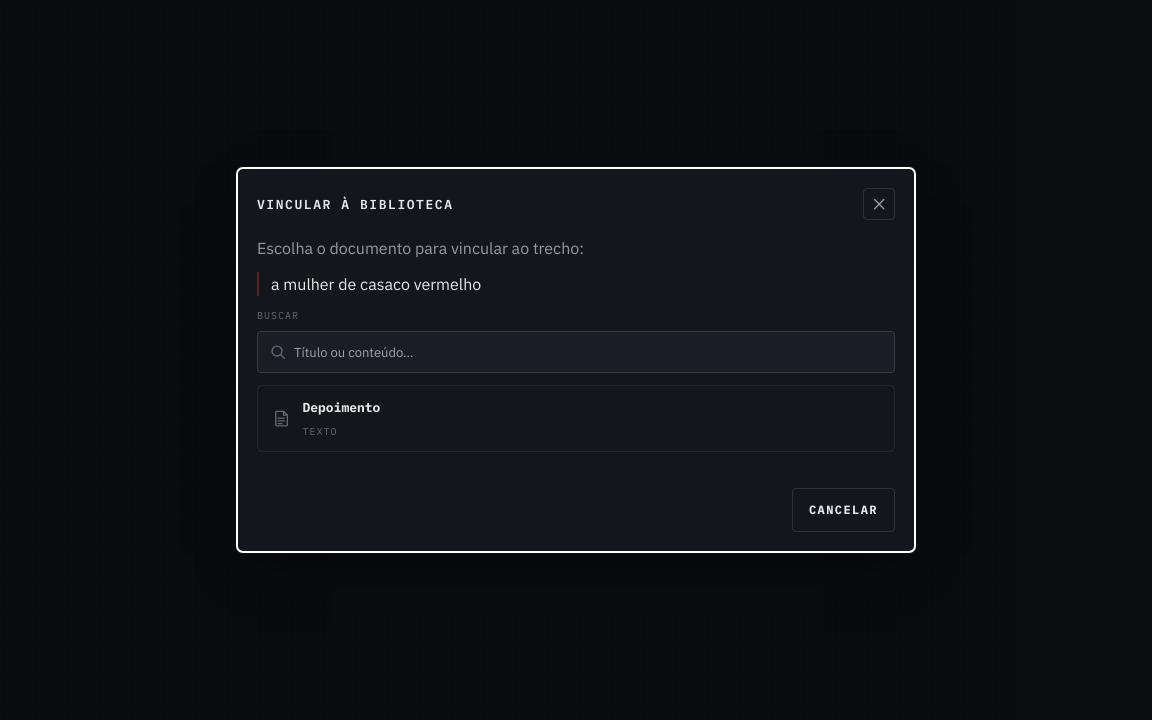
CadernoVinculoBiblioteca › seleção removida pela colaboração mantém texto e informa falha
Click the button "Depoimento Texto": (341, 408) x1=257 y1=385 x2=895 y2=452
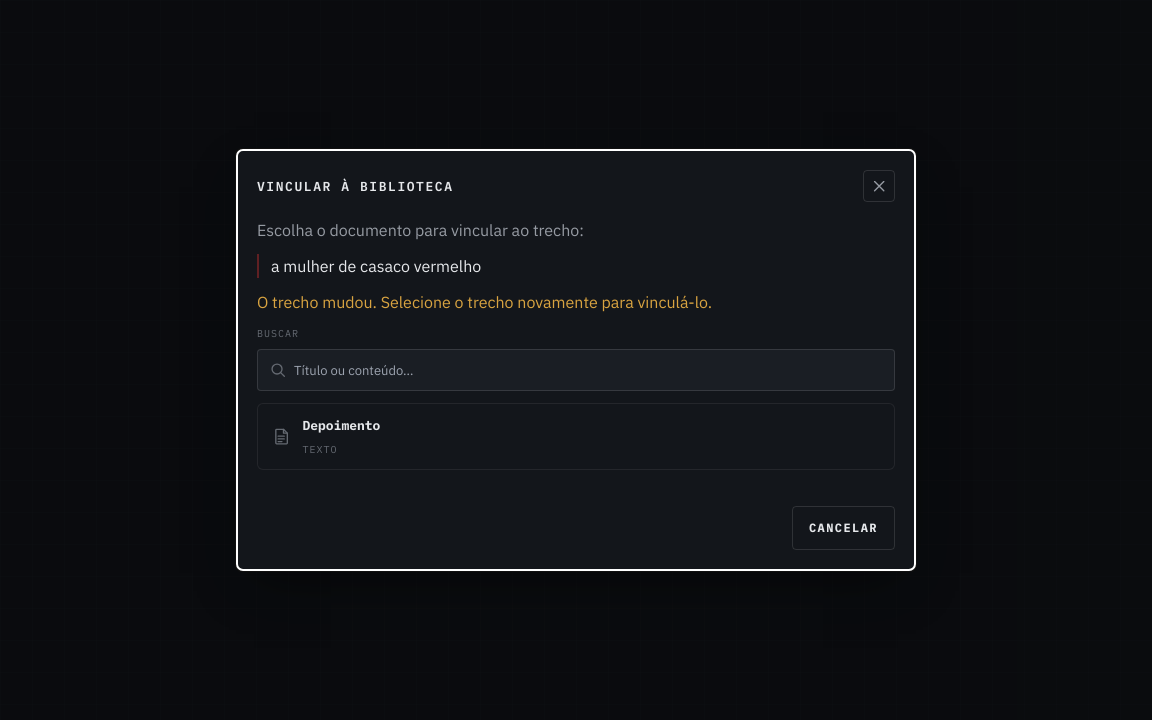
Expected: the text "Selecione o trecho novamente" is shown, x1=257 y1=292 x2=712 y2=312
